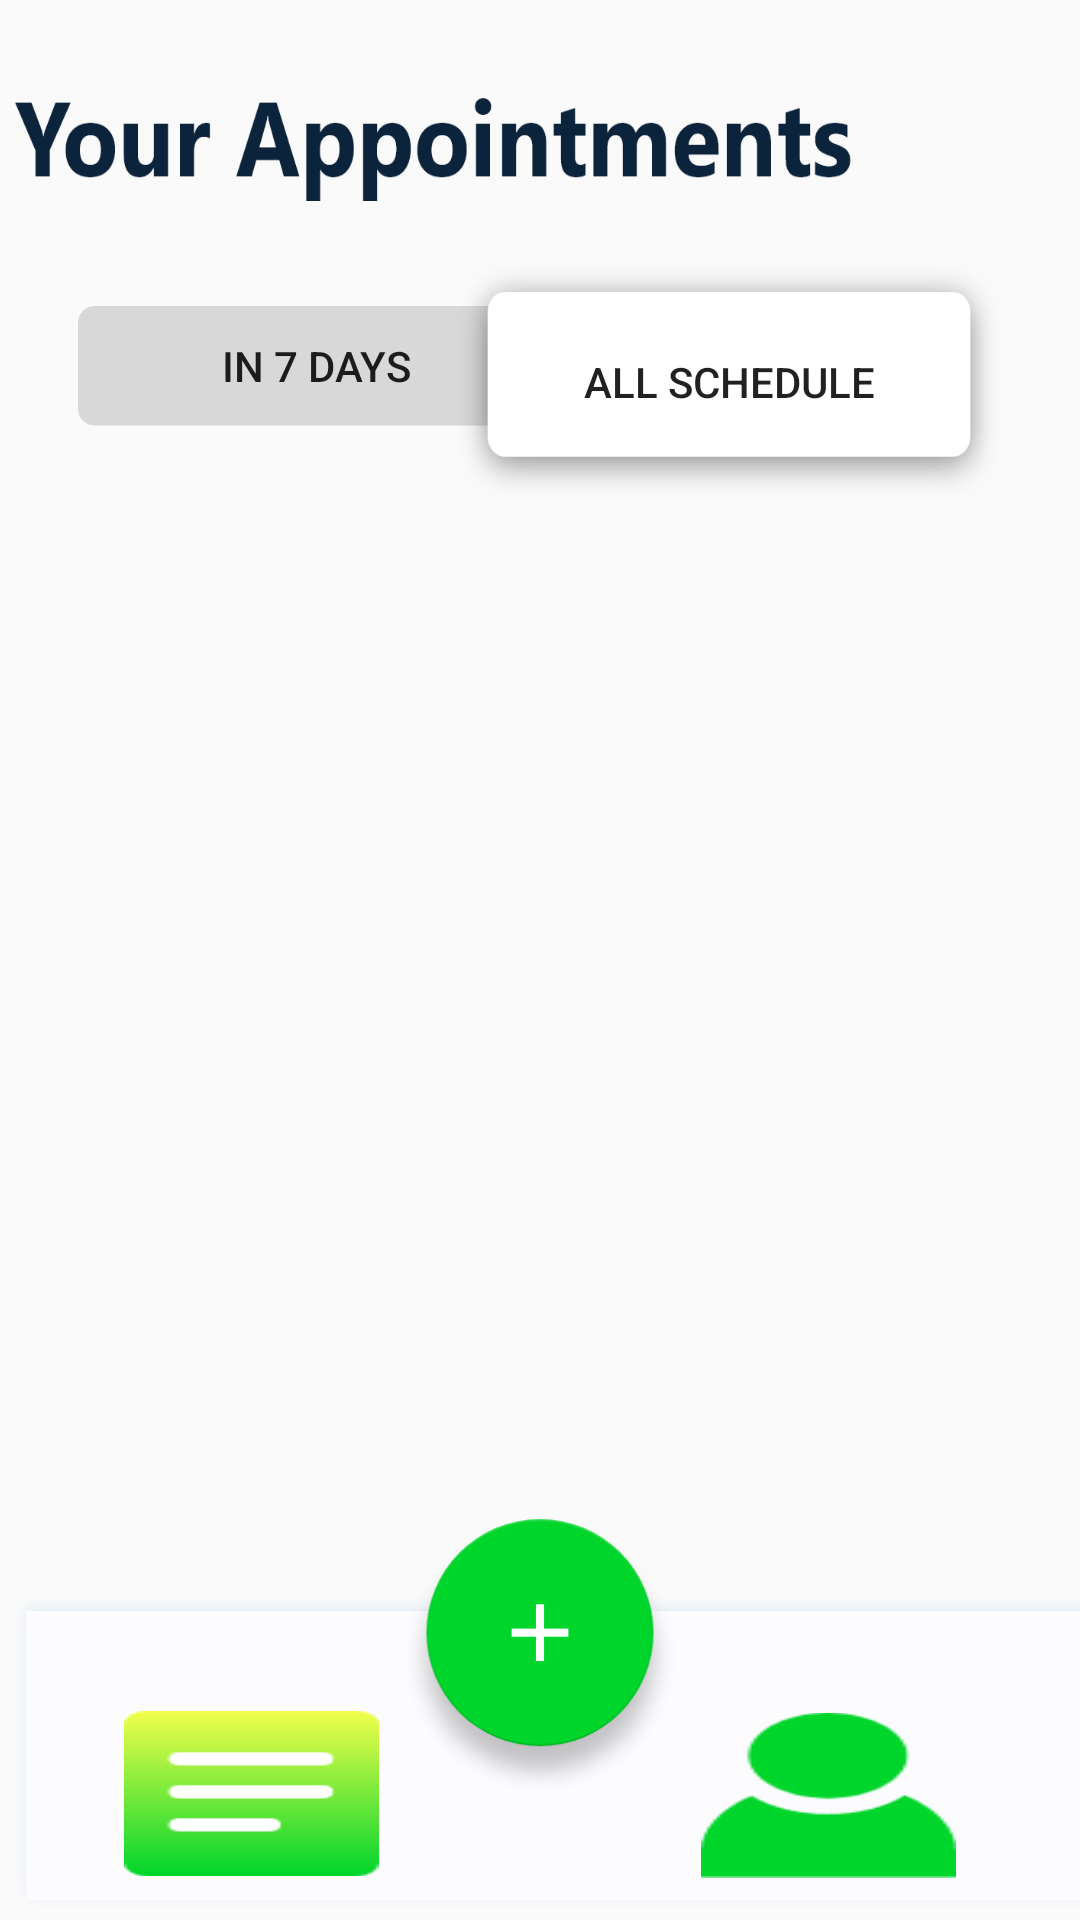

Icon click points for this 1080 × 1920 phone screenshot, format (x,y):
add appointment: (539,1646)
